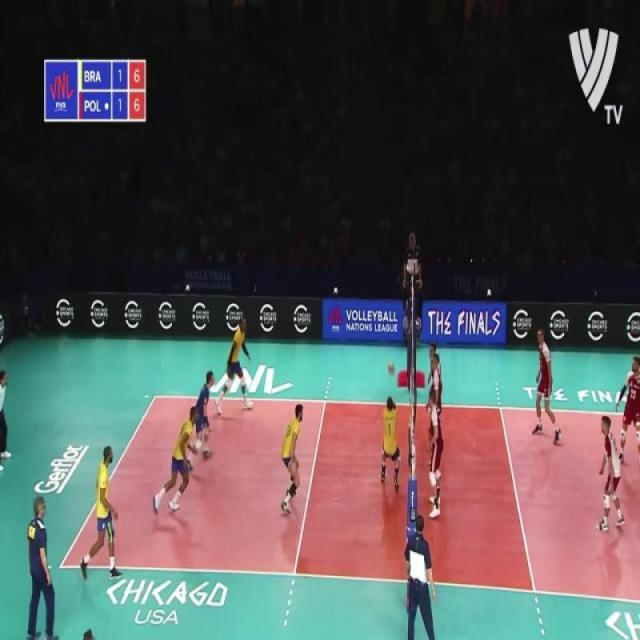volleyball: (388, 362, 396, 376)
